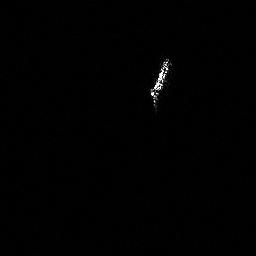ship: (148, 56, 173, 115)
